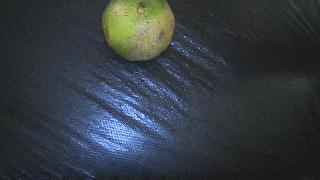DESECHO: (102, 0, 175, 61)
